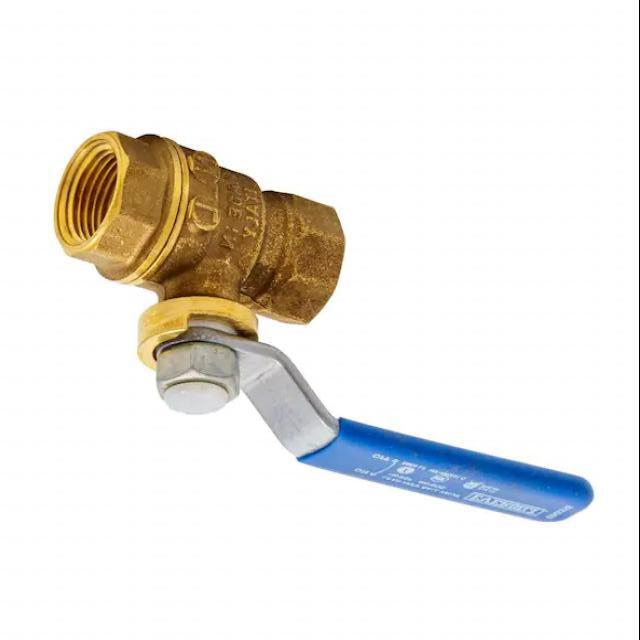opened_valve: (56, 118, 600, 534)
